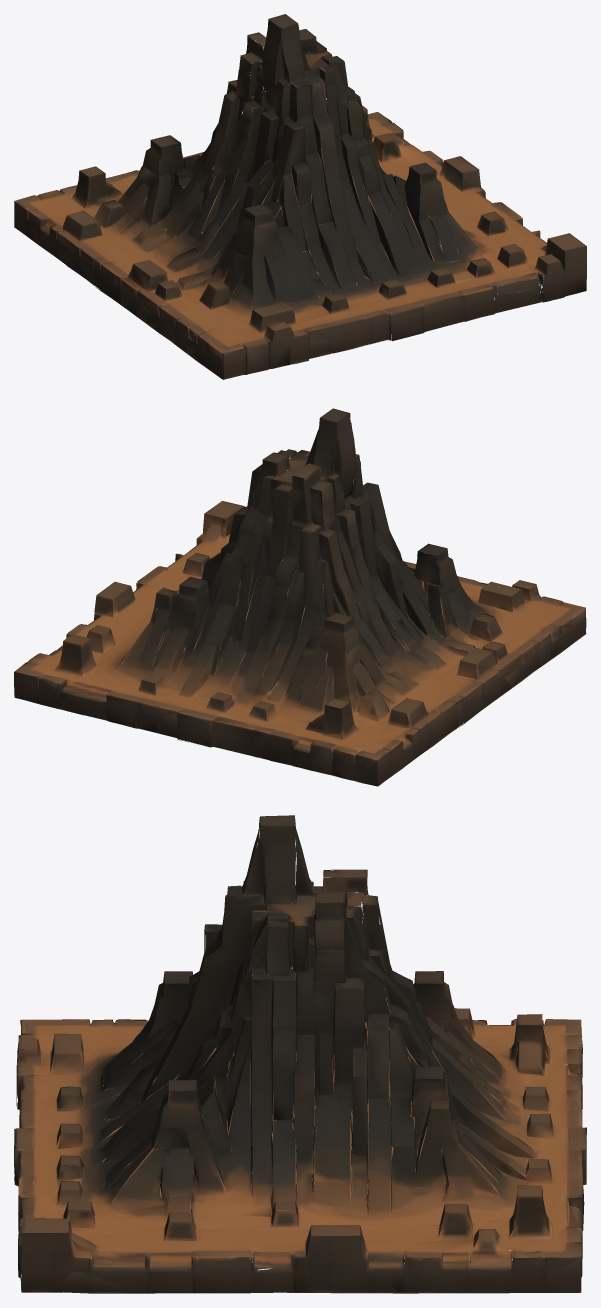
The model's file is mountain.glb.
The picture shows the model from 3 angles, top to bottom: view 1: azimuth 30°, elevation 25°; view 2: azimuth 150°, elevation 25°; view 3: azimuth 270°, elevation 25°; orthographic projection. The views are drawn at different scales.
Parts seen in each view (by area): view 1: node_0; view 2: node_0; view 3: node_0.
Boxes of the visible parts, box(x1,y1,x2,y2) form: node_0: box(14, 14, 586, 379); node_0: box(14, 408, 586, 786); node_0: box(14, 815, 586, 1293).
Bounding box in the file's own units: 0.7746 × 0.5097 × 0.7845.
Materials: 1 (1 with a texture image).
